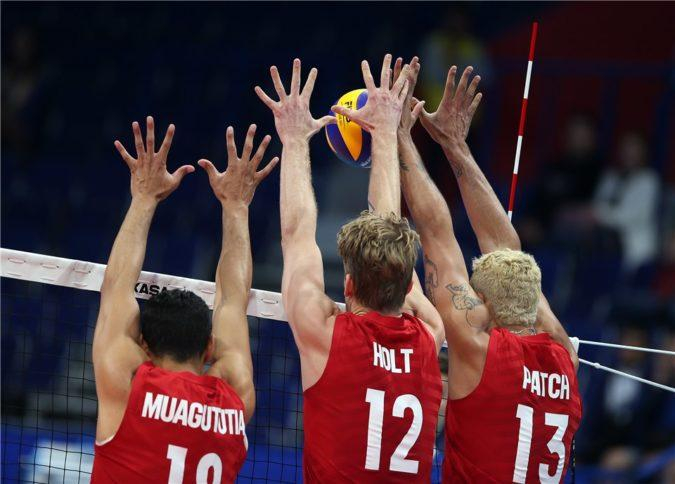ballon_volley: (324, 88, 411, 169)
